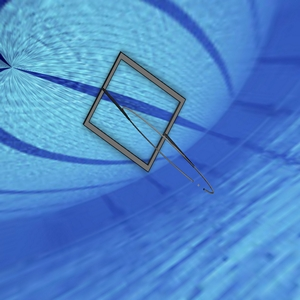circle: (81, 48, 218, 196)
